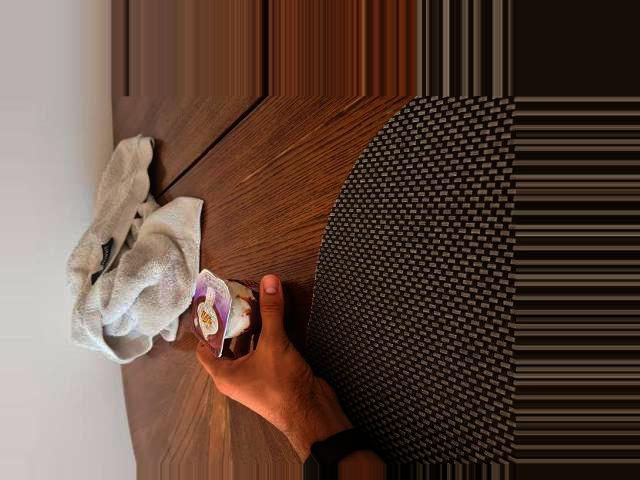milky: (191, 268, 296, 359)
